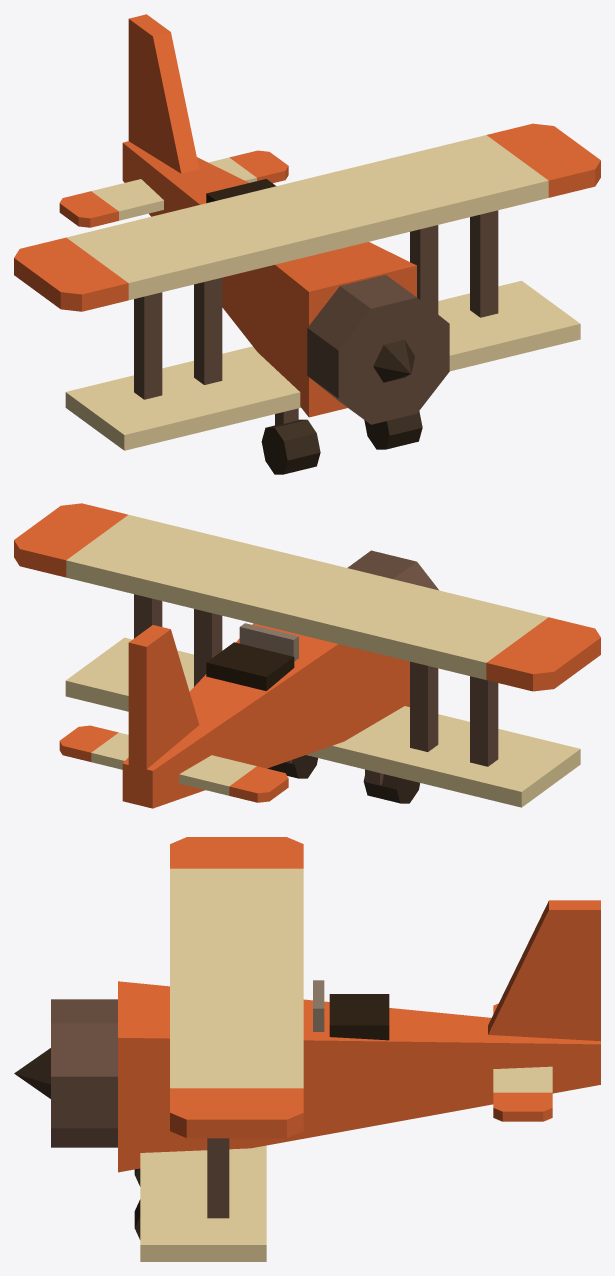
File: plane_body.glb
3 views of the same model, one above another, from view 1: azimuth 30°, elevation 25°; view 2: azimuth 150°, elevation 25°; view 3: azimuth 270°, elevation 25° (orthographic). The views are drawn at different scales.
Parts seen in each view (by area): view 1: Plane; view 2: Plane; view 3: Plane.
Boxes of the visible parts, <box> form: Plane: <box>14,14,600,474</box>; Plane: <box>14,503,600,808</box>; Plane: <box>14,837,600,1261</box>.
Bounding box in the file's own units: 1.8 × 0.93 × 1.58.
